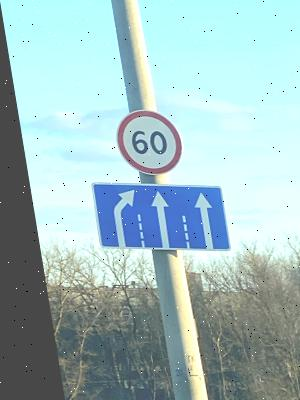Speed Limit -60-: (105, 106, 182, 175)
